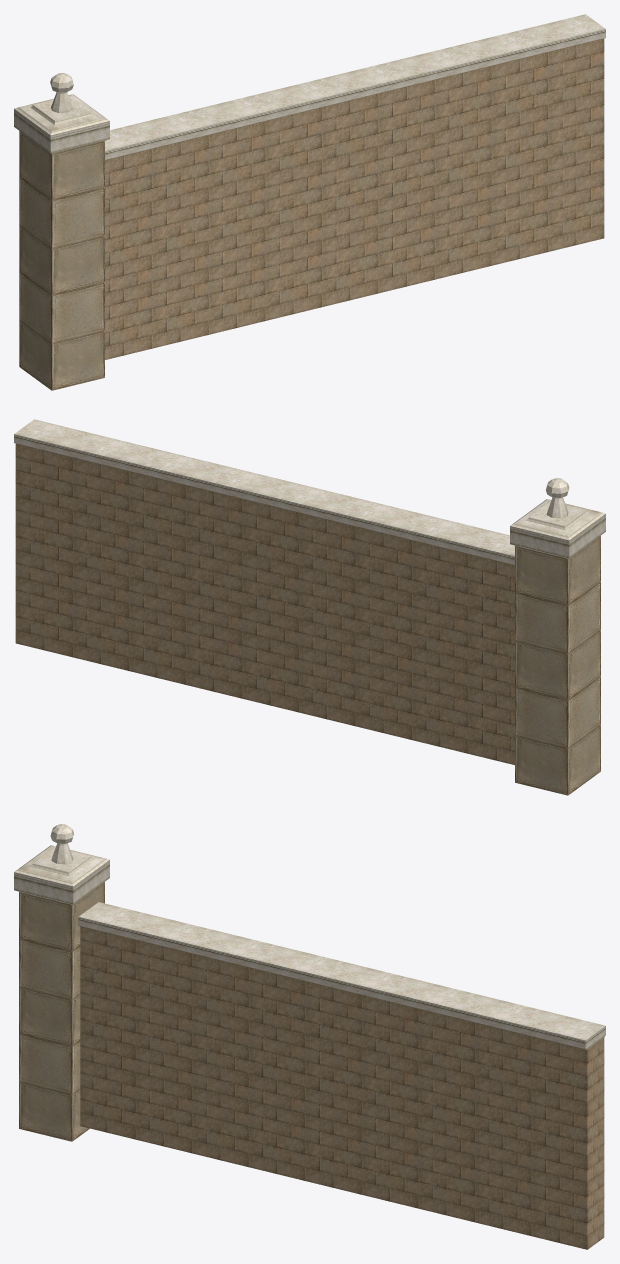
File: thm_nboo_thed_imprv_wall_s01_l0.fbx
The picture shows the model from 3 angles, top to bottom: view 1: azimuth 30°, elevation 25°; view 2: azimuth 150°, elevation 25°; view 3: azimuth 330°, elevation 25°; orthographic projection.
Parts seen in each view (by area): view 1: mesh_node; view 2: mesh_node; view 3: mesh_node.
Boxes of the visible parts, <box> form: mesh_node: <box>14,14,605,390</box>; mesh_node: <box>14,419,605,795</box>; mesh_node: <box>14,824,605,1249</box>.
Bounding box in the file's own units: 21.58 × 10.91 × 2.43.
1 material, 1 textured.
